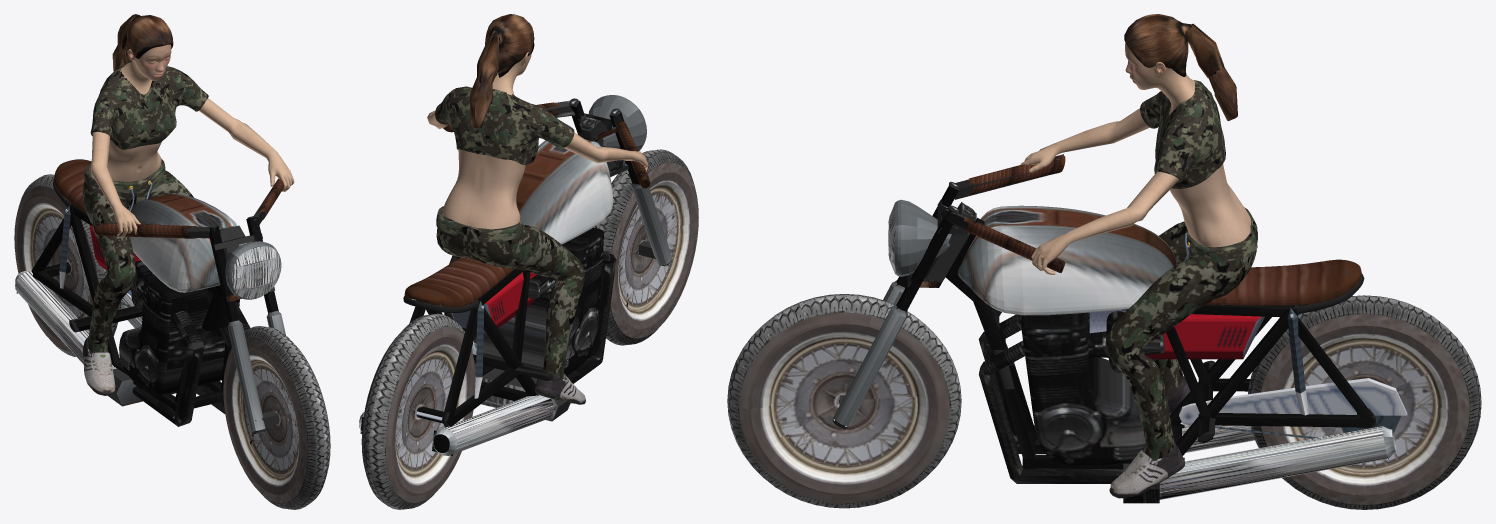
The model's file is motorcytress.glb.
3 renders of one model, left to right at view 1: azimuth 30°, elevation 25°; view 2: azimuth 150°, elevation 25°; view 3: azimuth 270°, elevation 25°, orthographic. The views are drawn at different scales.
Parts seen in each view (by area): view 1: Frame_0, tireShape1_1, Shirt_4, Pants_5, Body_3, tireShape2_2; view 2: Frame_0, tireShape2_2, tireShape1_1, Shirt_4, Pants_5, Body_3; view 3: Frame_0, tireShape1_1, tireShape2_2, Pants_5, Body_3, Shirt_4.
Part boxes in pixels (x1,y1,x2,y2): Frame_0: (15,159,285,434); tireShape1_1: (223,326,330,509); Shirt_4: (90,14,208,149); Pants_5: (82,158,193,395); Body_3: (89,44,294,237); tireShape2_2: (14,174,121,356); Frame_0: (359,95,671,455); tireShape2_2: (361,313,475,509); tireShape1_1: (593,149,698,345); Shirt_4: (435,14,574,165); Pants_5: (436,206,585,404); Body_3: (427,52,648,229); Frame_0: (832,154,1407,503); tireShape1_1: (727,294,961,508); tireShape2_2: (1248,295,1481,509); Pants_5: (1105,207,1257,498); Body_3: (1020,43,1251,274); Shirt_4: (1124,14,1237,188).
Size of the model in its own units: 0.8562 by 1.65 by 2.29.
Materials: 2 (2 with a texture image).
